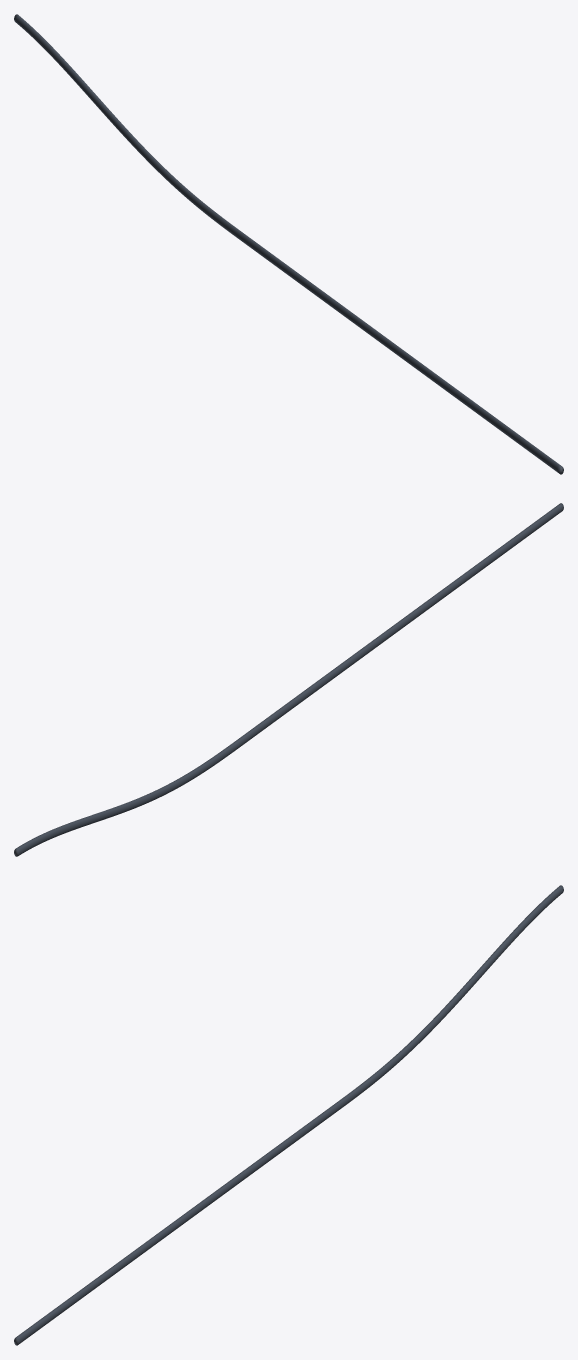
Rendered from meleemod_edge_honed.glb.
3 views of the same model, one above another, from view 1: azimuth 30°, elevation 25°; view 2: azimuth 150°, elevation 25°; view 3: azimuth 330°, elevation 25° (orthographic).
Visible parts, largest first — view 1: meleemod_edge_honed_strip; view 2: meleemod_edge_honed_strip; view 3: meleemod_edge_honed_strip.
Boxes of the visible parts, box(x1,y1,x2,y2) form: meleemod_edge_honed_strip: box(14, 14, 563, 474); meleemod_edge_honed_strip: box(14, 503, 563, 856); meleemod_edge_honed_strip: box(14, 885, 563, 1345).
Bounding box in the file's own units: 0.0028 × 0.0333 × 0.5341.
